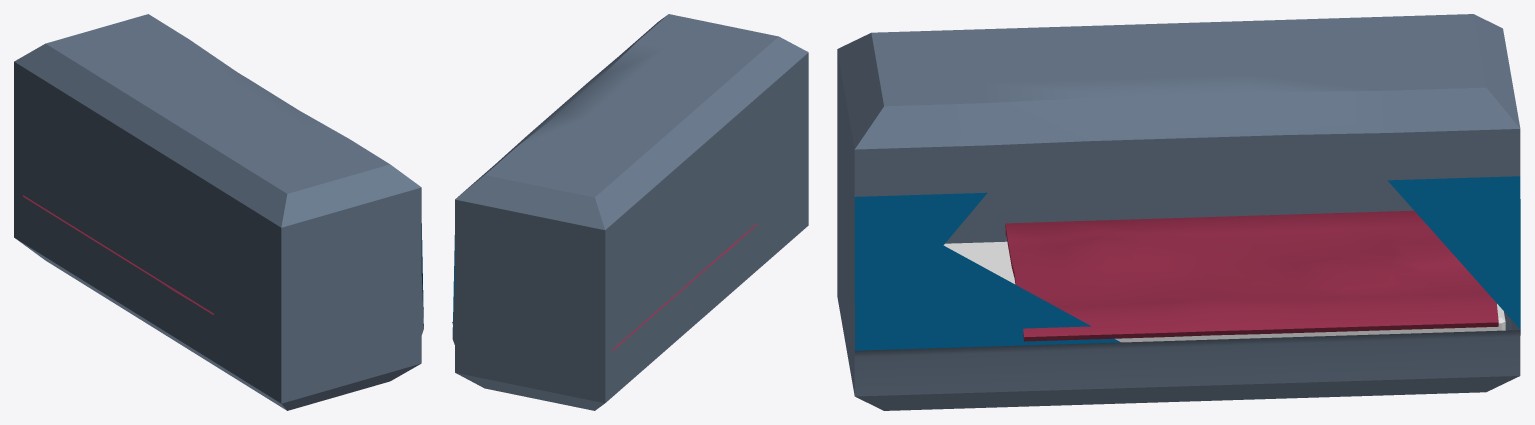
Rendered from Bed.fbx.
The picture shows the model from 3 angles, left to right: view 1: azimuth 30°, elevation 25°; view 2: azimuth 150°, elevation 25°; view 3: azimuth 270°, elevation 25°; orthographic projection. The views are drawn at different scales.
Visible parts, largest first — view 1: pasted__pasted__pCube1, pasted__pasted__pPlane1; view 2: pasted__pasted__pCube1, pasted__pasted__pPlane1; view 3: pasted__pasted__pCube1, pasted__pasted__pPlane1, pasted__pasted__pCube2.
Part boxes in pixels (x1=…): pasted__pasted__pCube1: x1=14, y1=14, x2=423, y2=410; pasted__pasted__pPlane1: x1=23, y1=195, x2=213, y2=315; pasted__pasted__pCube1: x1=452, y1=14, x2=808, y2=410; pasted__pasted__pPlane1: x1=452, y1=223, x2=757, y2=350; pasted__pasted__pCube1: x1=837, y1=14, x2=1520, y2=410; pasted__pasted__pPlane1: x1=1005, y1=210, x2=1498, y2=341; pasted__pasted__pCube2: x1=943, y1=241, x2=1505, y2=342.
Size of the model in its own units: 2.44 by 2.83 by 5.76.
